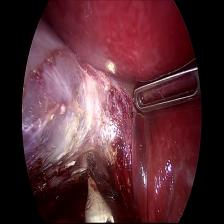Grasper: (131, 58, 203, 115)
Hook: (81, 150, 115, 224)
